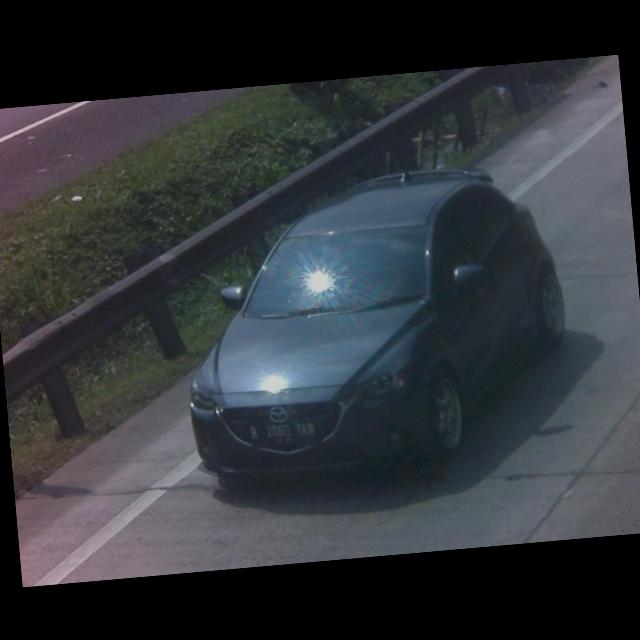plate: (245, 416, 318, 446)
